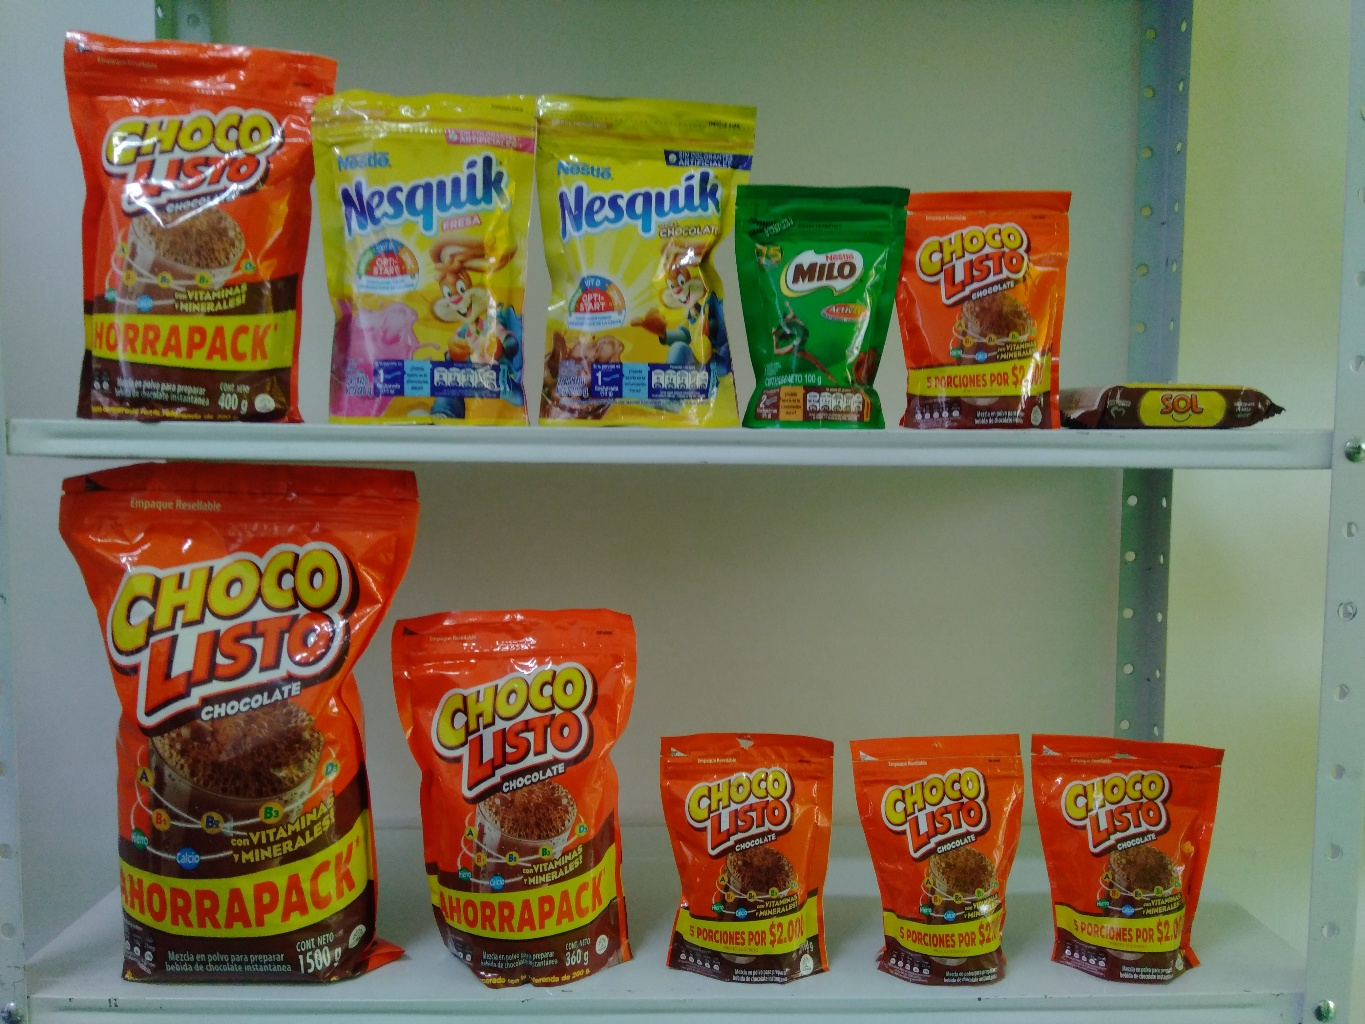COL0170103DYP1,500: (53, 482, 396, 989)
COL0170103DYP10000: (652, 719, 847, 990)
COL0170103DYP36000: (400, 606, 659, 986)
COL0170103DYP40000: (57, 15, 328, 416)
COL0170203DYP10000: (719, 176, 897, 428)
COL0170303DYP20000: (535, 75, 763, 422)
COL0170305DYP20000: (323, 84, 563, 427)
